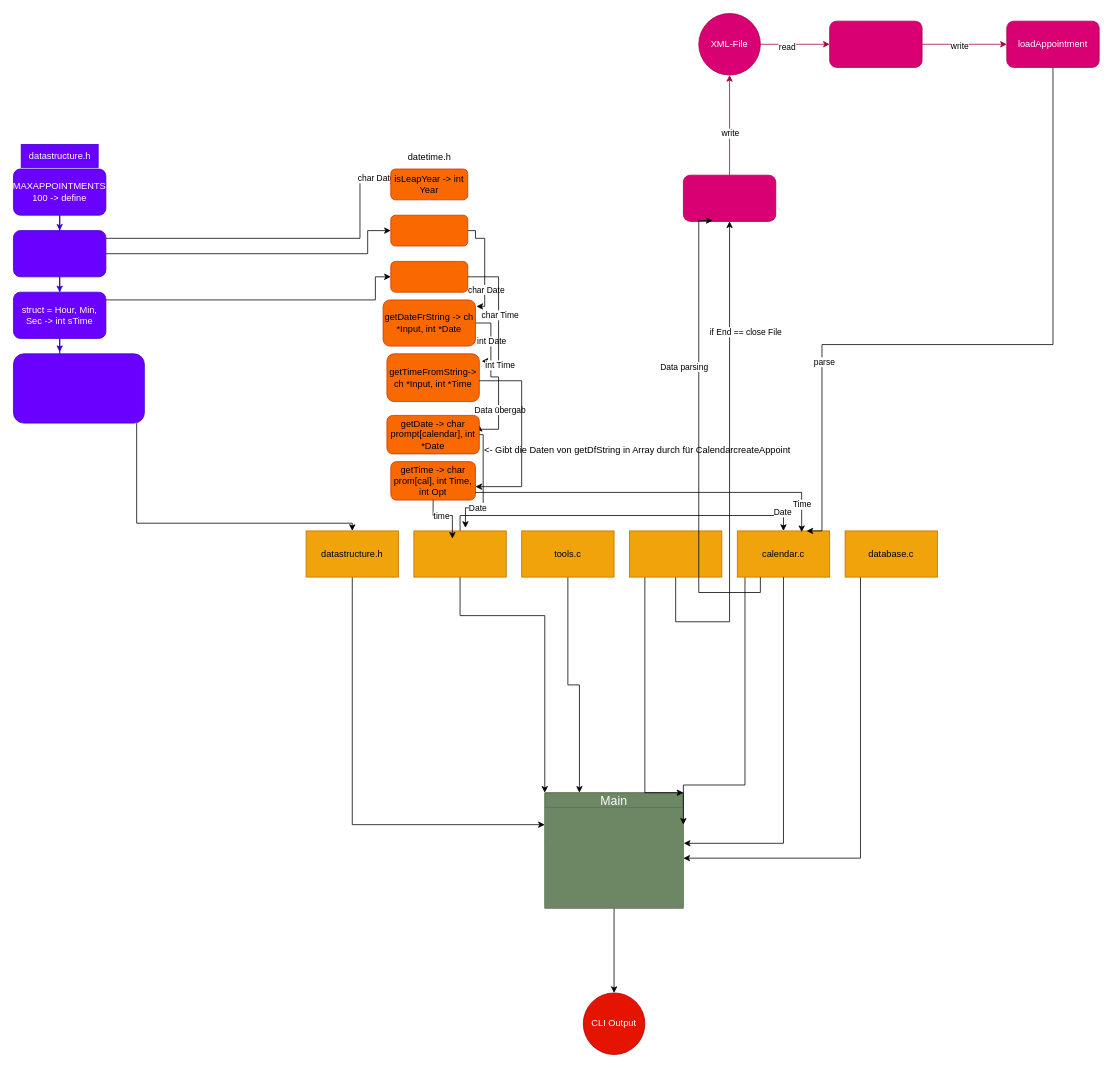
This 1113x1068 diagram has some shape labels left out. The shapes that lost their labels are listed below. From the top down, each one's centre as x and y in pixels, then its label:
the point at 875,43: loadCalendar
the point at 729,197: saveCalendar
the point at 429,230: isDateValid -> struct *Date
the point at 59,253: struct = Day, Month, Year -> int sDate
the point at 429,276: isTimeValid -> struct *Time
the point at 78,388: struct = Date, Time, *Descr, Durat, *Place -> sAppointment
the point at 459,553: datetime.c
the point at 675,553: menu.c
